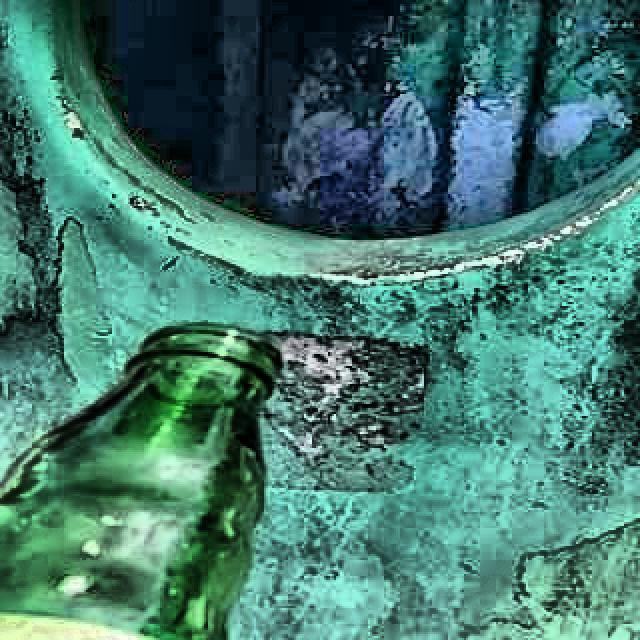glass: (0, 325, 277, 640)
